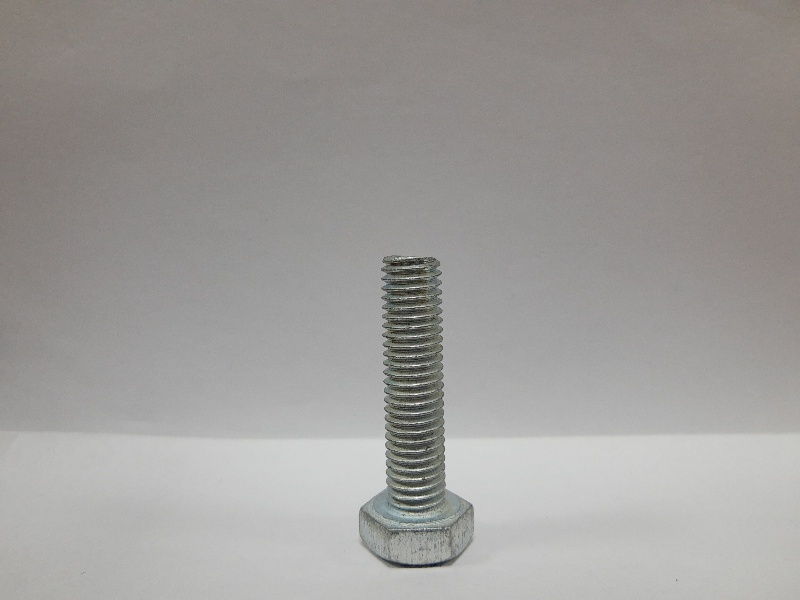pf: (351, 246, 481, 573)
